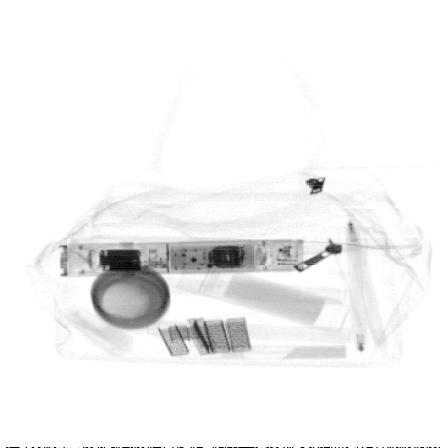Baton: (56, 238, 307, 280)
